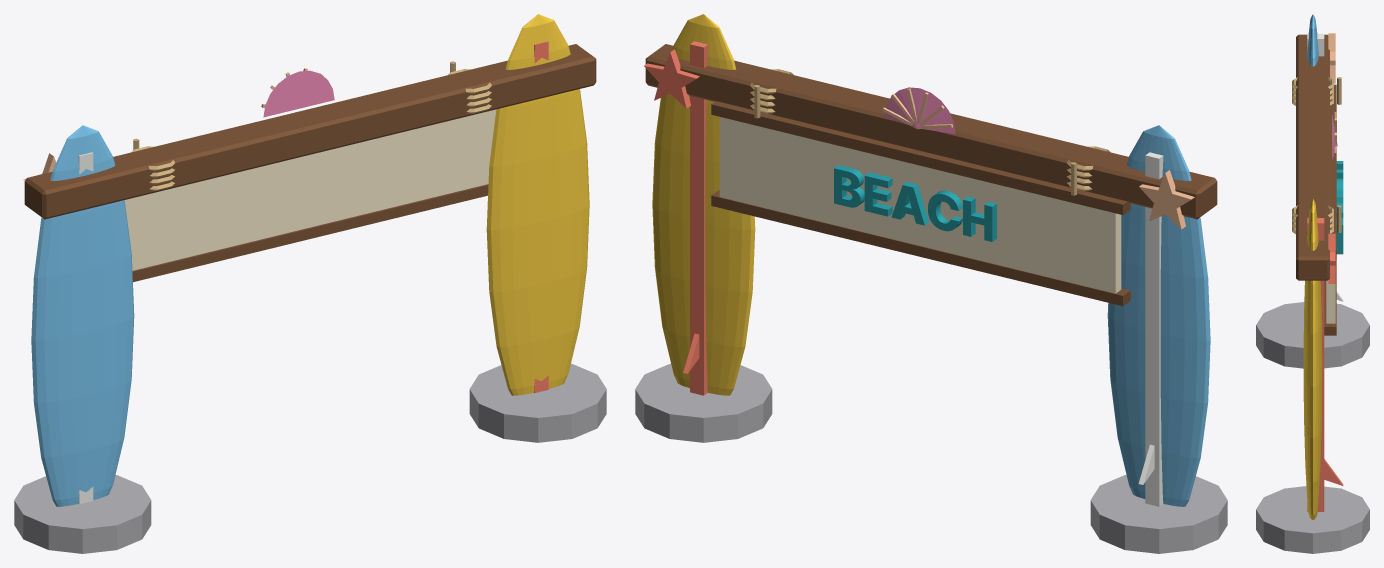
Rendered from BeachArch.fbx.
The picture shows the model from 3 angles, left to right: view 1: azimuth 30°, elevation 25°; view 2: azimuth 150°, elevation 25°; view 3: azimuth 270°, elevation 25°; orthographic projection. The views are drawn at different scales.
Parts seen in each view (by area): view 1: BeachArch_Yellow, BeachArch_SkyBlue, BeachArch_WoodDark, BeachArch_Cream, BeachArch_Concrete, BeachArch_Pink, BeachArch_Rope; view 2: BeachArch_WoodDark, BeachArch_Cream, BeachArch_SkyBlue, BeachArch_Yellow, BeachArch_Concrete, BeachArch_Coral, BeachArch_White, BeachArch_Teal, BeachArch_Peach, BeachArch_Pink, BeachArch_Rope; view 3: BeachArch_Concrete, BeachArch_WoodDark, BeachArch_Yellow, BeachArch_Coral, BeachArch_Rope, BeachArch_Teal, BeachArch_SkyBlue, BeachArch_Peach, BeachArch_Cream, BeachArch_White.
Boxes of the visible parts, x1=… form: BeachArch_Yellow: x1=486, y1=14, x2=589, y2=395; BeachArch_SkyBlue: x1=31, y1=125, x2=134, y2=506; BeachArch_WoodDark: x1=24, y1=44, x2=596, y2=282; BeachArch_Cream: x1=124, y1=109, x2=496, y2=270; BeachArch_Concrete: x1=14, y1=363, x2=606, y2=553; BeachArch_Pink: x1=263, y1=70, x2=334, y2=117; BeachArch_Rope: x1=131, y1=61, x2=491, y2=190; BeachArch_WoodDark: x1=645, y1=44, x2=1217, y2=306; BeachArch_Cream: x1=719, y1=117, x2=1121, y2=293; BeachArch_SkyBlue: x1=1107, y1=125, x2=1210, y2=506; BeachArch_Yellow: x1=652, y1=14, x2=755, y2=395; BeachArch_Concrete: x1=635, y1=363, x2=1227, y2=553; BeachArch_Coral: x1=644, y1=41, x2=707, y2=395; BeachArch_White: x1=1138, y1=152, x2=1163, y2=506; BeachArch_Teal: x1=834, y1=165, x2=996, y2=241; BeachArch_Peach: x1=882, y1=88, x2=1194, y2=229; BeachArch_Pink: x1=884, y1=87, x2=955, y2=134; BeachArch_Rope: x1=750, y1=69, x2=1110, y2=195; BeachArch_Concrete: x1=1256, y1=302, x2=1369, y2=553; BeachArch_WoodDark: x1=1296, y1=34, x2=1336, y2=335; BeachArch_Yellow: x1=1303, y1=199, x2=1322, y2=519; BeachArch_Coral: x1=1307, y1=218, x2=1343, y2=511; BeachArch_Rope: x1=1292, y1=77, x2=1341, y2=234; BeachArch_Teal: x1=1336, y1=161, x2=1343, y2=254; BeachArch_SkyBlue: x1=1307, y1=14, x2=1318, y2=66; BeachArch_Peach: x1=1328, y1=33, x2=1336, y2=152; BeachArch_Cream: x1=1326, y1=280, x2=1335, y2=323; BeachArch_White: x1=1307, y1=33, x2=1343, y2=301.
Size of the model in its own units: 29 by 19.6 by 6.
